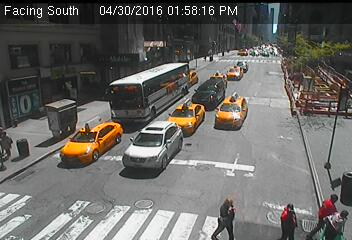neg: (133, 98, 193, 178), (260, 48, 267, 57), (223, 46, 230, 54), (219, 48, 225, 56), (230, 46, 236, 54), (247, 48, 253, 56), (243, 50, 248, 57)
pos: (212, 193, 245, 237)
